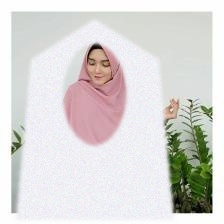Mukena: (15, 18, 174, 220)
